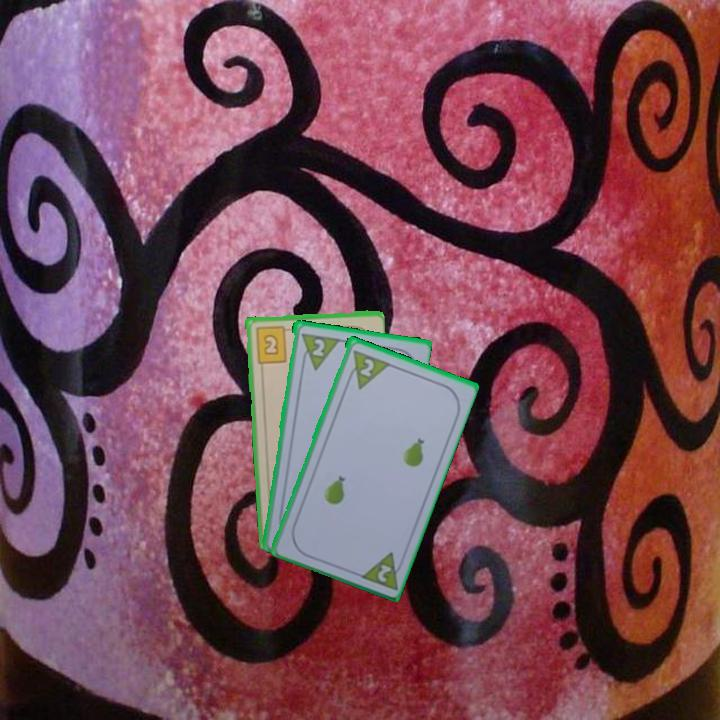2b: (252, 322, 294, 365)
2p: (355, 548, 408, 593), (342, 346, 391, 391), (297, 329, 340, 372)
